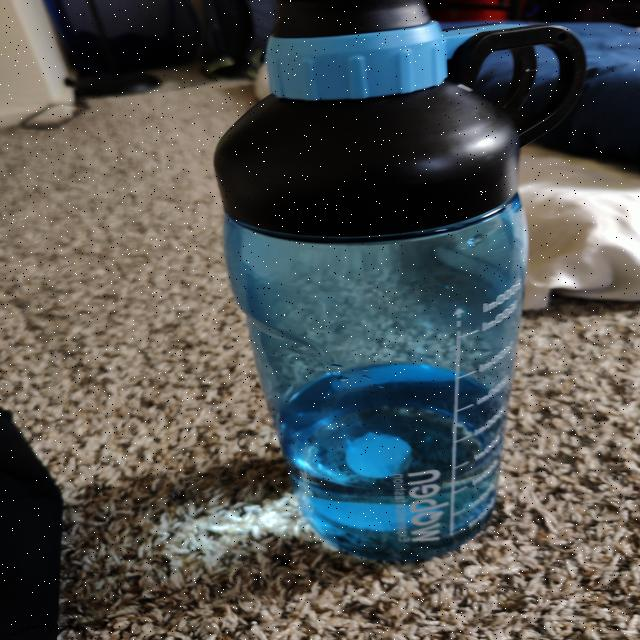bottle: (230, 4, 588, 542)
